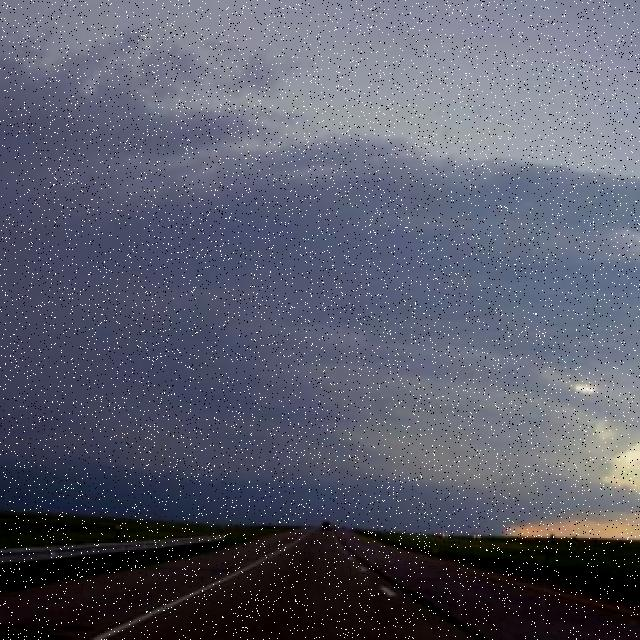Cb: (1, 31, 640, 484)
